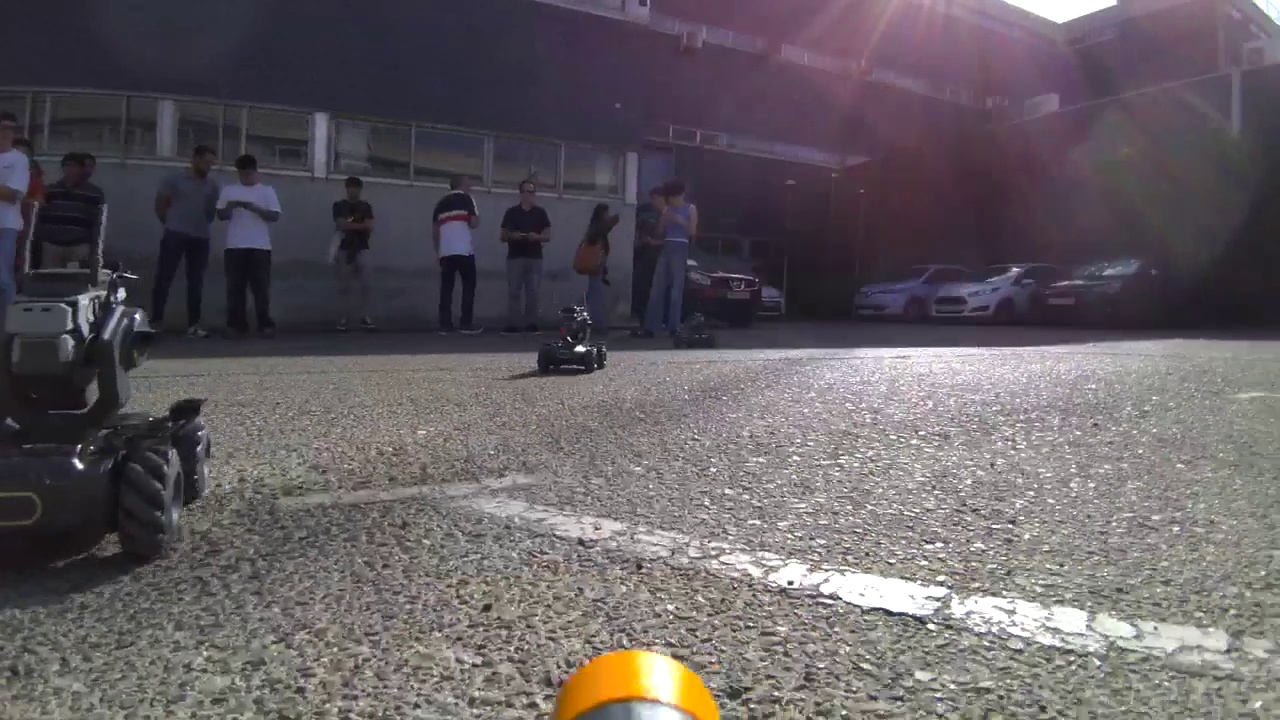robot: (1, 257, 221, 559), (540, 302, 605, 376), (675, 307, 715, 355)
